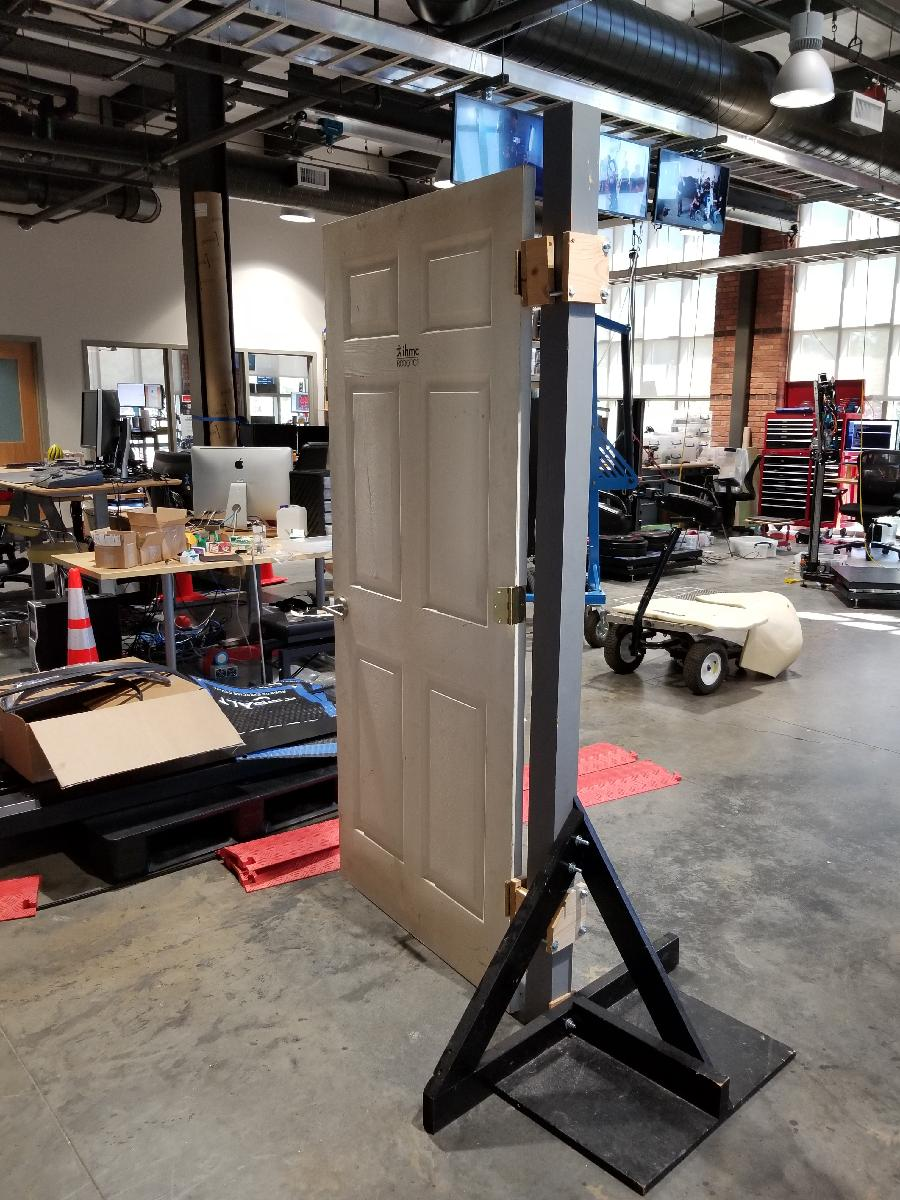door: (316, 161, 536, 1018)
doorHandle: (317, 592, 352, 623)
